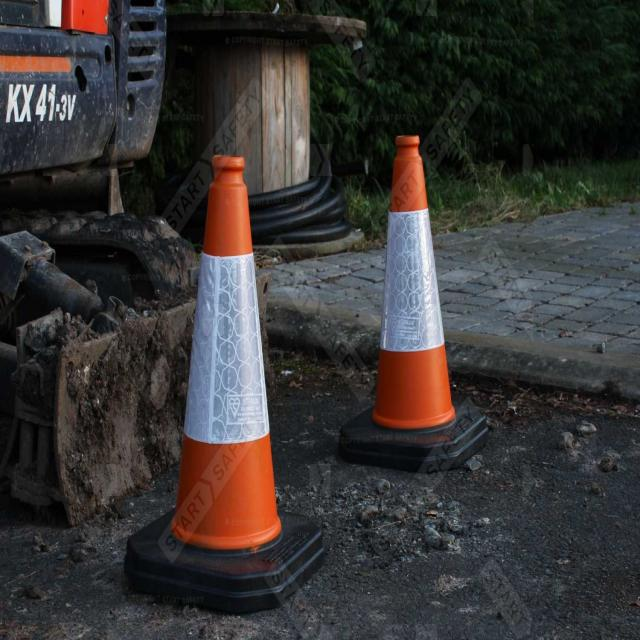Traffic Cone: (117, 85, 349, 640), (305, 30, 529, 528)
